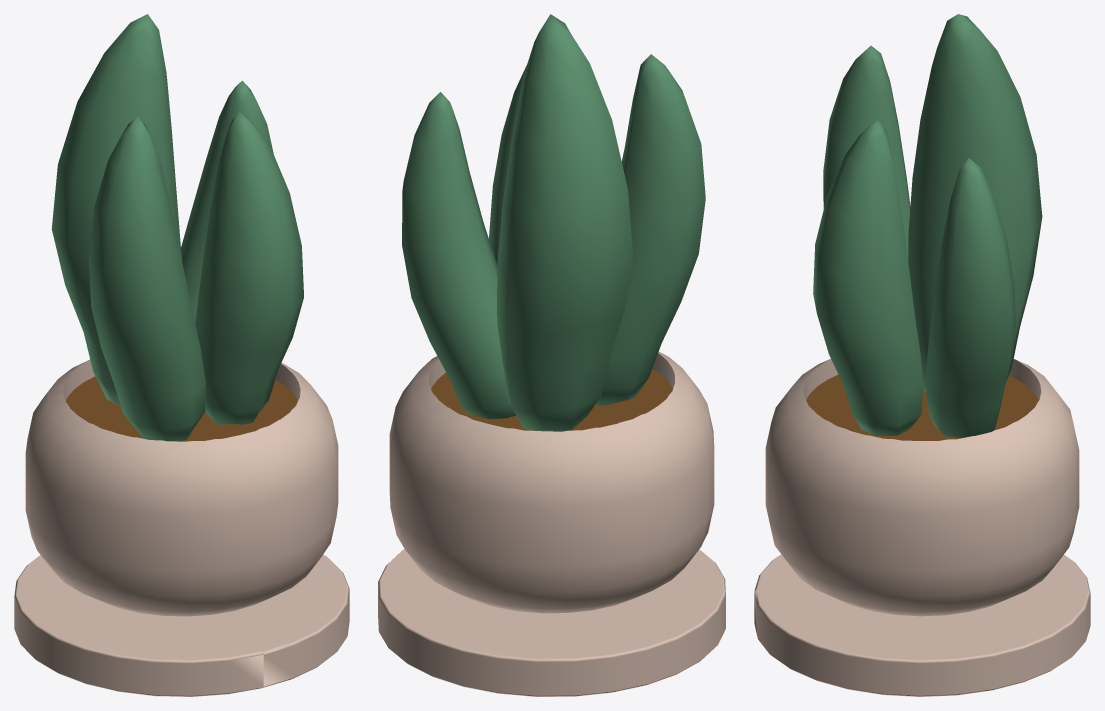
3 renders of one model, left to right at view 1: azimuth 30°, elevation 25°; view 2: azimuth 150°, elevation 25°; view 3: azimuth 270°, elevation 25°, orthographic. The views are drawn at different scales.
Parts seen in each view (by area): view 1: leaf, plant pot, plant stand, earth; view 2: leaf, plant pot, plant stand, earth; view 3: leaf, plant pot, plant stand, earth.
Boxes of the visible parts, <box> form: leaf: <box>51,14,303,441</box>; plant pot: <box>25,359,338,616</box>; plant stand: <box>14,554,349,696</box>; earth: <box>65,376,298,441</box>; leaf: <box>402,14,705,431</box>; plant pot: <box>389,352,714,613</box>; plant stand: <box>378,549,725,696</box>; earth: <box>431,369,672,431</box>; leaf: <box>813,14,1042,437</box>; plant pot: <box>765,359,1079,616</box>; plant stand: <box>754,554,1090,696</box>; earth: <box>806,374,1038,440</box>.
Bounding box in the file's own units: 0.2552 × 0.5064 × 0.2552.
